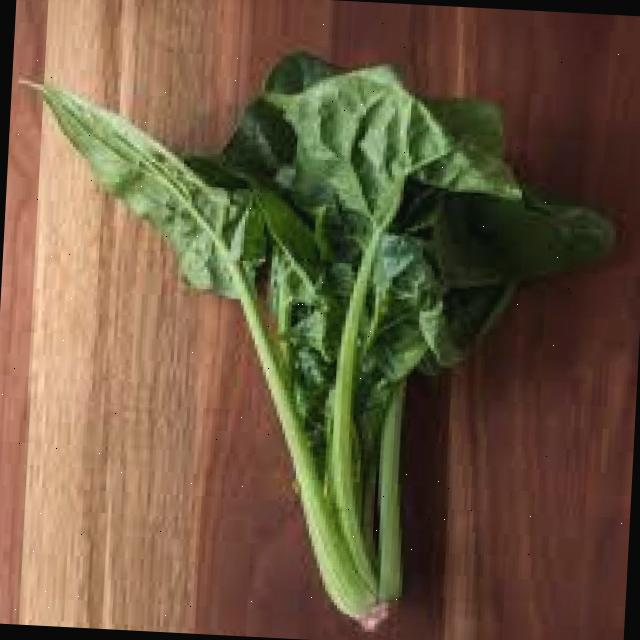spinach: (0, 33, 637, 640)
